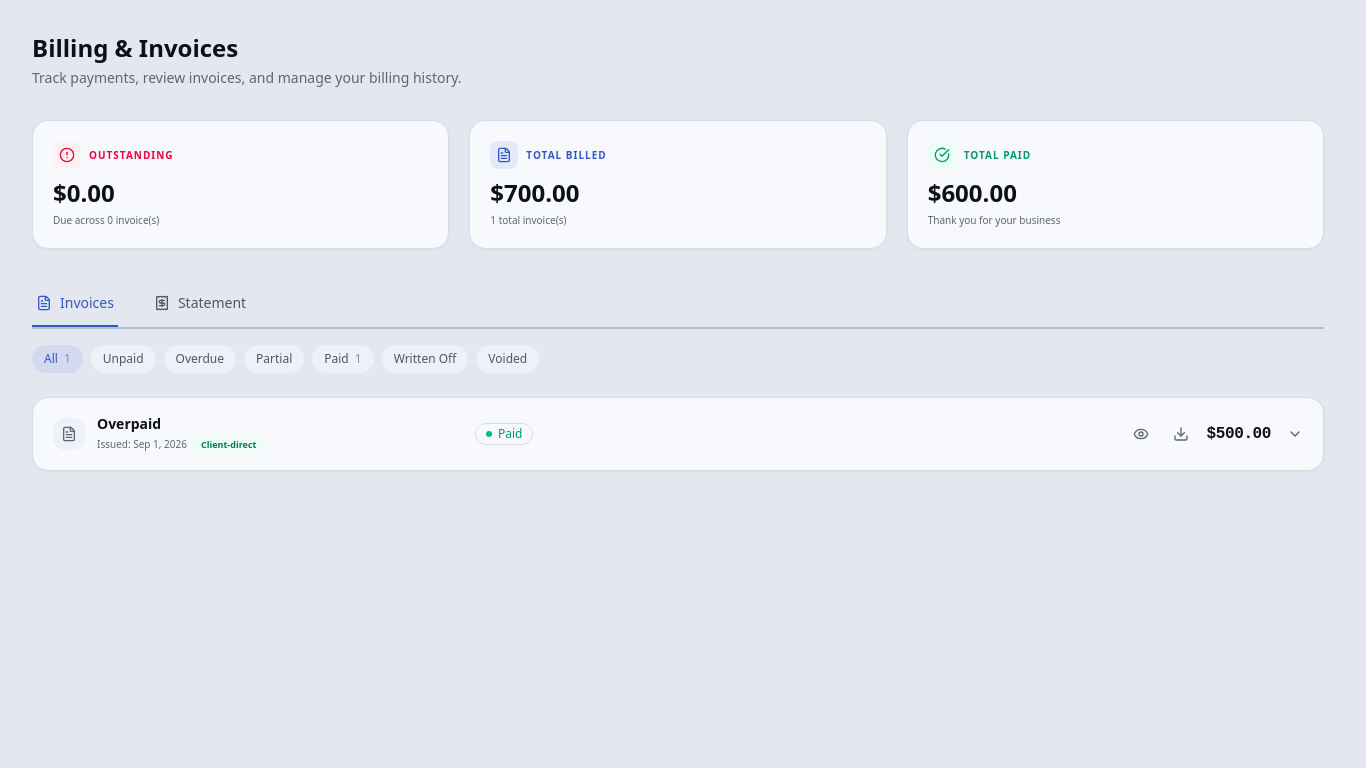
Test: portal statement footer › labels a negative final balance as a credit, shown as a positive amount
Click the button "Statement" at point(200, 304), box [150,281,250,327]
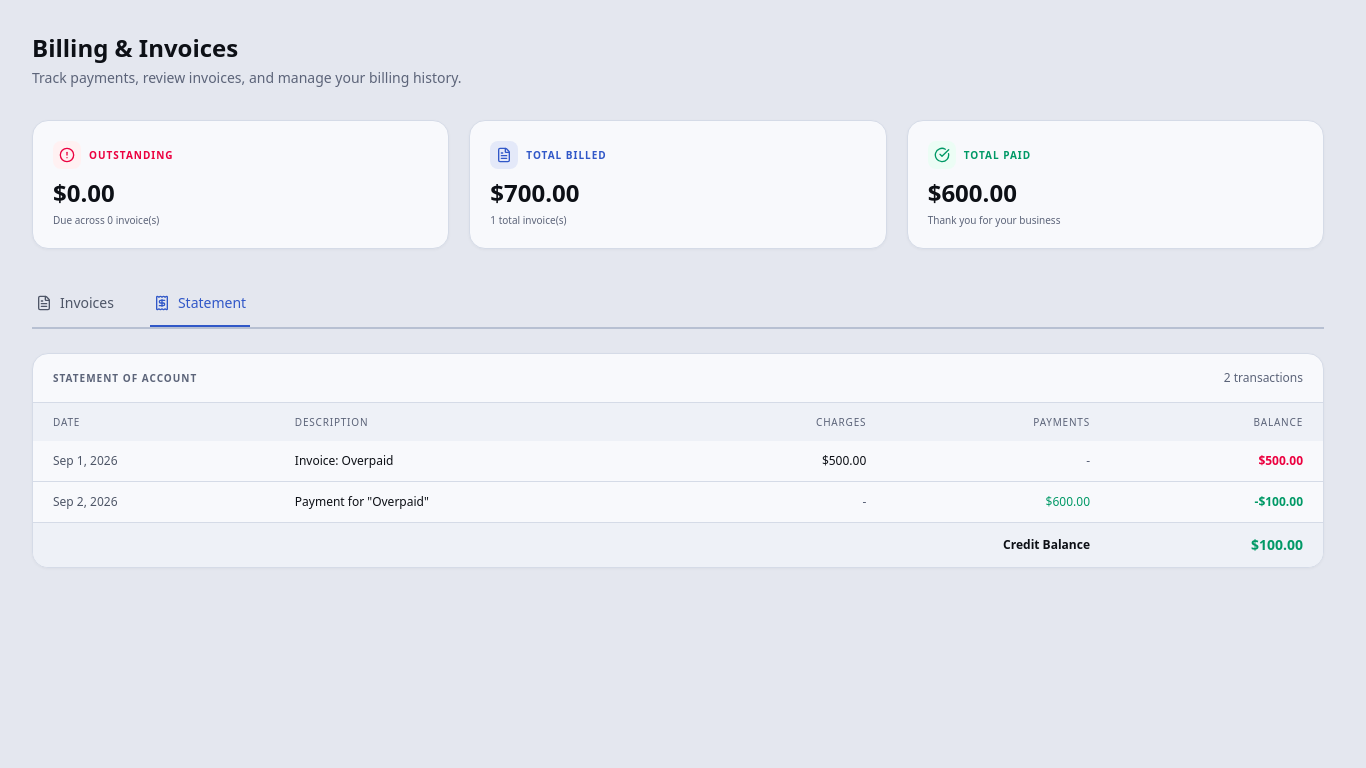
Now the text "Payment for \"Overpaid\"" is shown, box [275,482,677,523]
